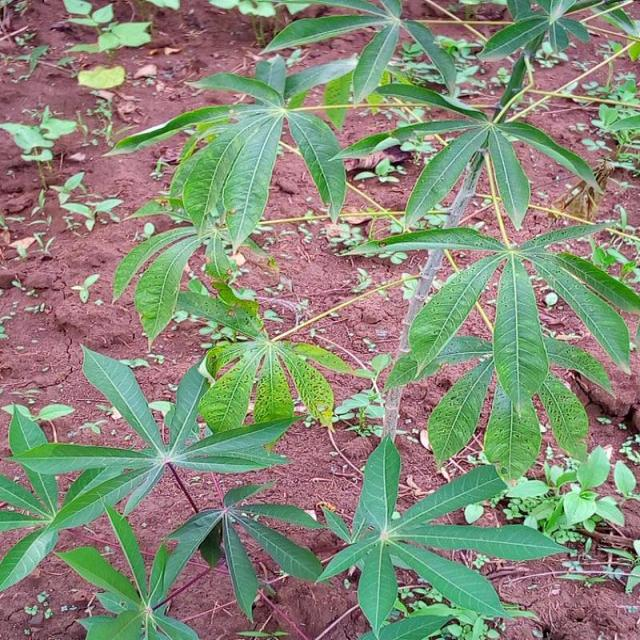cassava leaf: (491, 252, 549, 414)
